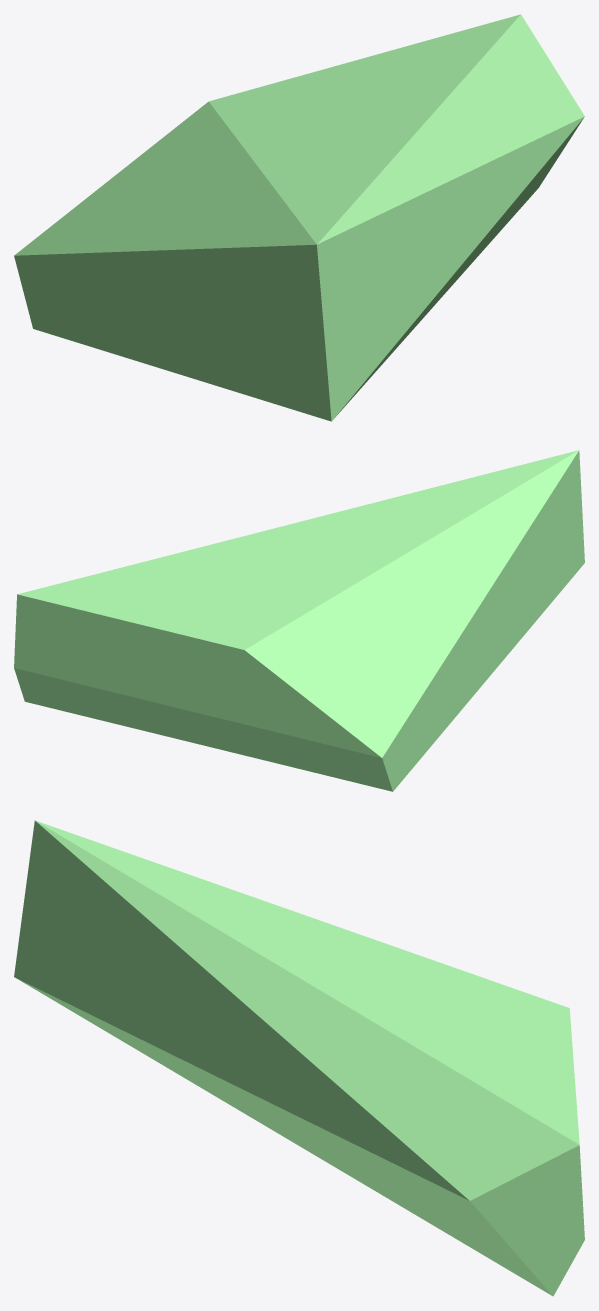
File: dxxx_Lp11_respondable_PSM1_coll_9.dae
3 renders of one model, top to bottom at view 1: azimuth 30°, elevation 25°; view 2: azimuth 150°, elevation 25°; view 3: azimuth 270°, elevation 25°, orthographic. The views are drawn at different scales.
Visible parts, largest first — view 1: Node_000001D818CB9BA0; view 2: Node_000001D818CB9BA0; view 3: Node_000001D818CB9BA0.
Part boxes in pixels (x1=…): Node_000001D818CB9BA0: x1=14, y1=14, x2=584, y2=421; Node_000001D818CB9BA0: x1=14, y1=450, x2=584, y2=791; Node_000001D818CB9BA0: x1=14, y1=820, x2=584, y2=1296.
Bounding box in the file's own units: 0.0341 × 0.0178 × 0.0357.
